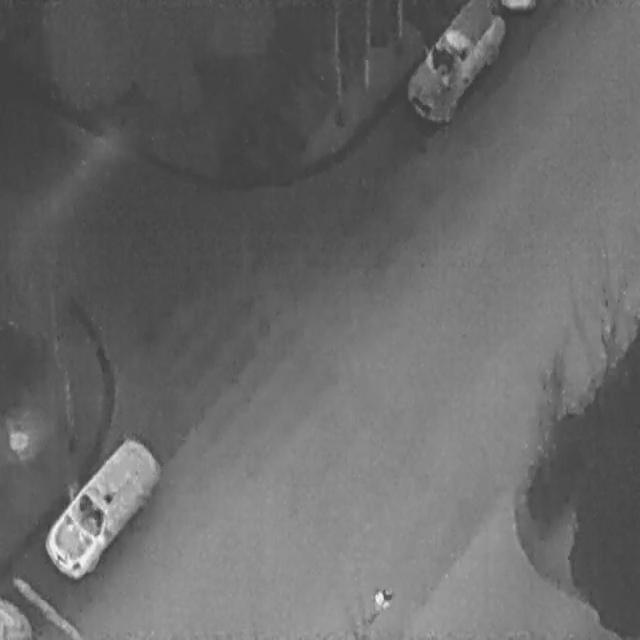Car: (36, 422, 166, 588), (406, 1, 503, 130)
